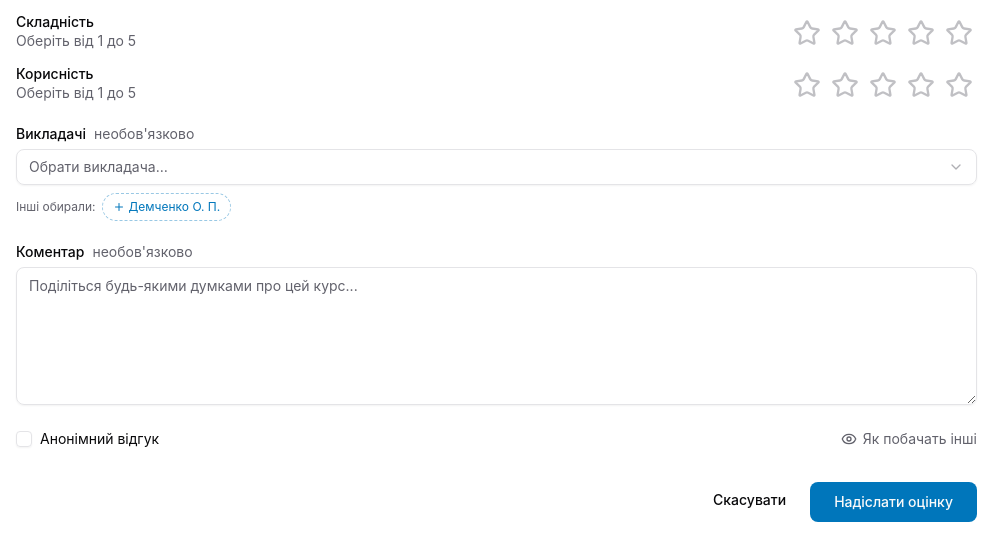
Test case: RatingForm › instructor field › offers teachers others named on this course one tap away
This screenshot has width=994, height=539.
Expected: the element with test id "rating-instructor-quick-picks" does not show "Разовий", left=16, top=193, right=231, bottom=221
Click the button with aria-label "Додати: Демченко Олена Петрівна" at (166, 207), box left=102, top=193, right=231, bottom=221
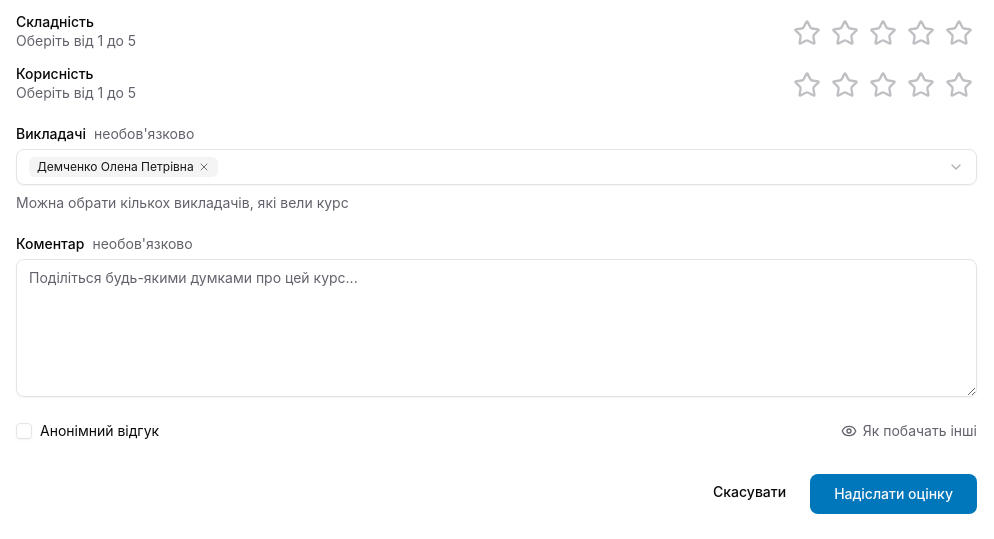
Now the dropdown with test id "rating-instructor-multiselect" reads "Демченко Олена Петрівна", box left=16, top=149, right=977, bottom=185
Now the element with test id "rating-instructor-quick-picks" is gone
